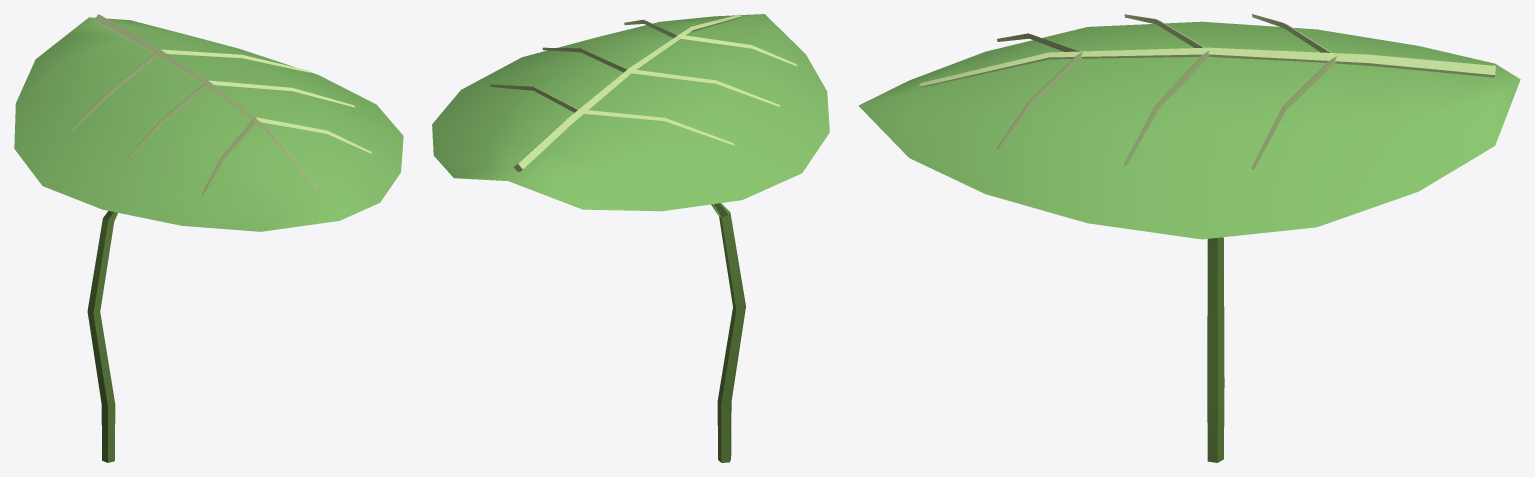
Rendered from leaf-glider.glb.
The picture shows the model from 3 angles, left to right: view 1: azimuth 30°, elevation 25°; view 2: azimuth 150°, elevation 25°; view 3: azimuth 270°, elevation 25°; orthographic projection. The views are drawn at different scales.
Visible parts, largest first — view 1: leaf-glider; view 2: leaf-glider; view 3: leaf-glider.
Boxes of the visible parts, x1,y1,x2,y2 form: leaf-glider: (14, 14, 403, 462); leaf-glider: (432, 14, 829, 462); leaf-glider: (858, 14, 1520, 462).
Size of the model in its own units: 0.8 by 0.8206 by 1.04.
